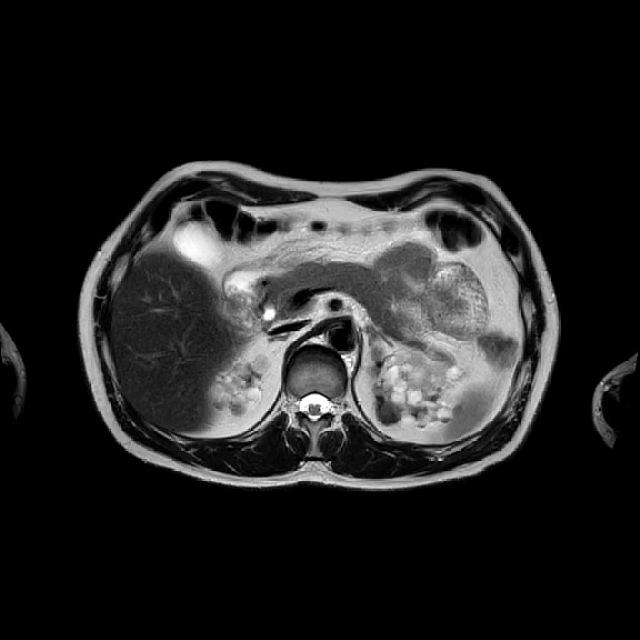sag: (209, 355, 273, 415)
sol: (374, 348, 463, 424)
